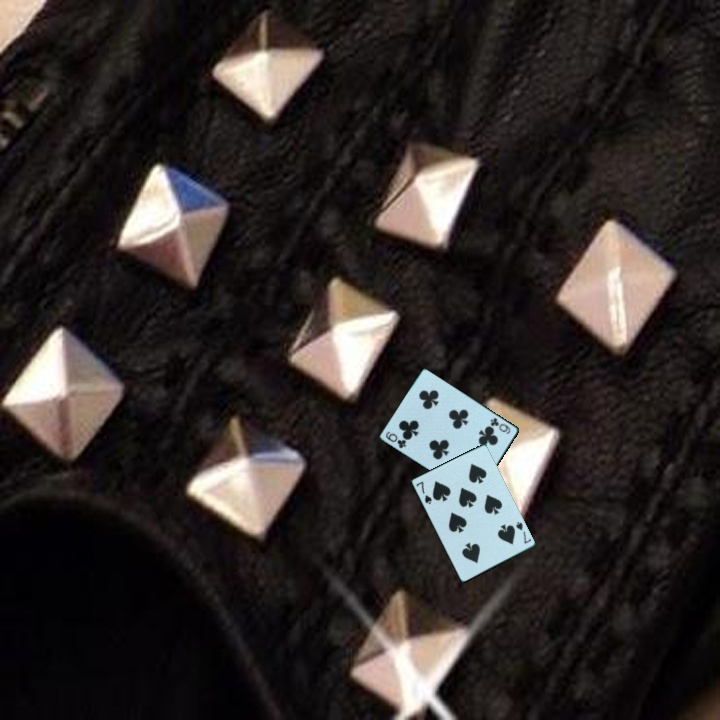6c: (487, 414, 514, 437), (382, 428, 409, 451)
7s: (413, 478, 435, 507), (513, 518, 534, 547)
